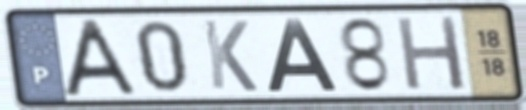0: (131, 18, 193, 95)
8: (336, 15, 392, 93)
A: (59, 16, 142, 99), (263, 16, 341, 95)
H: (393, 13, 470, 94)
K: (199, 17, 261, 95)
